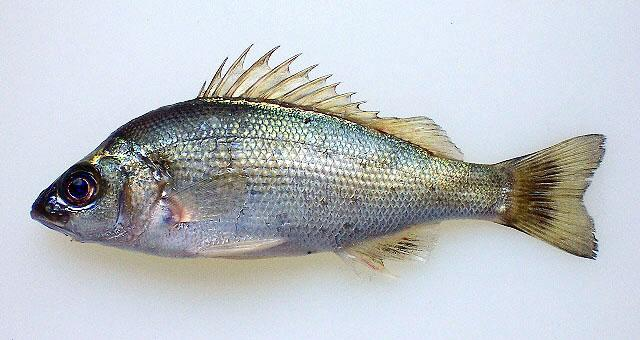Silver Perch: (33, 43, 607, 276)
